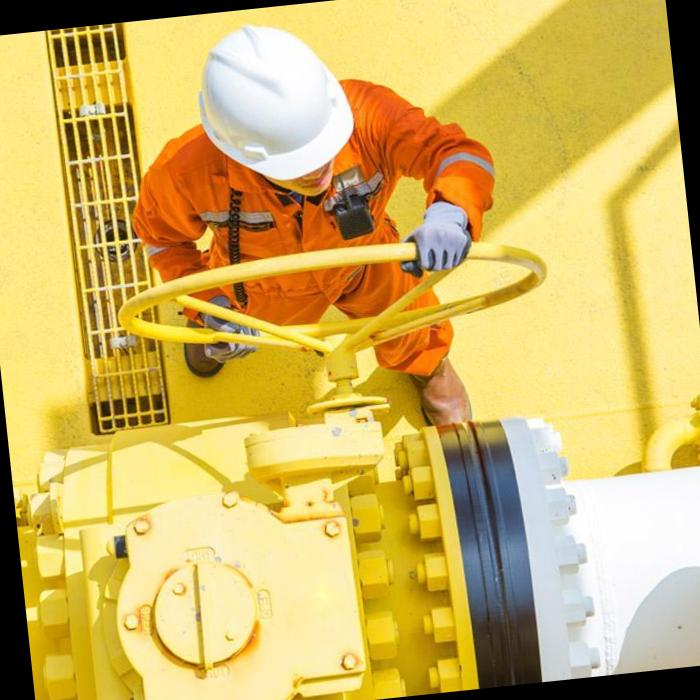Helmet: (172, 11, 370, 194)
Vest: (137, 102, 496, 456)
